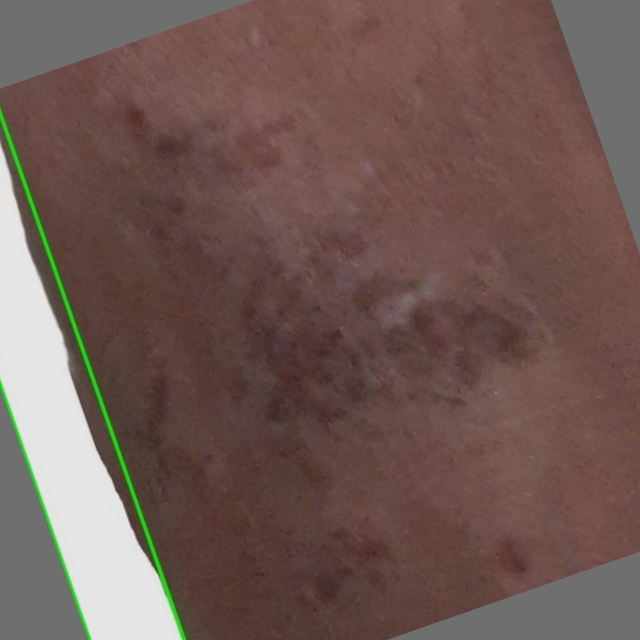Contact Dermatitis: (0, 114, 184, 639)
